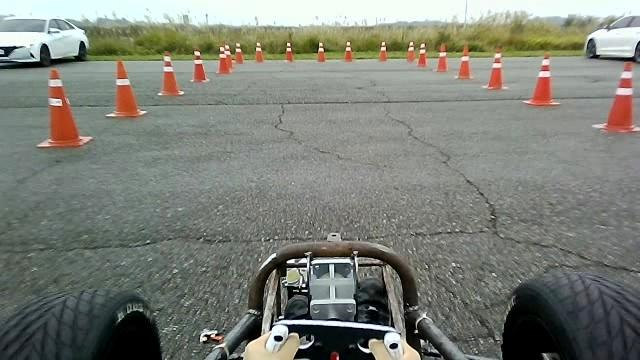red cone: (35, 68, 93, 148), (591, 60, 639, 132), (104, 58, 147, 117), (522, 52, 561, 105), (157, 51, 184, 96), (482, 48, 508, 90), (189, 47, 210, 82), (454, 46, 474, 81), (215, 46, 232, 74), (435, 42, 449, 72), (417, 42, 428, 66), (223, 44, 233, 69), (254, 41, 264, 62), (234, 42, 244, 63), (406, 41, 415, 62), (378, 41, 387, 61), (285, 42, 294, 62), (317, 41, 325, 62), (344, 41, 352, 61)
